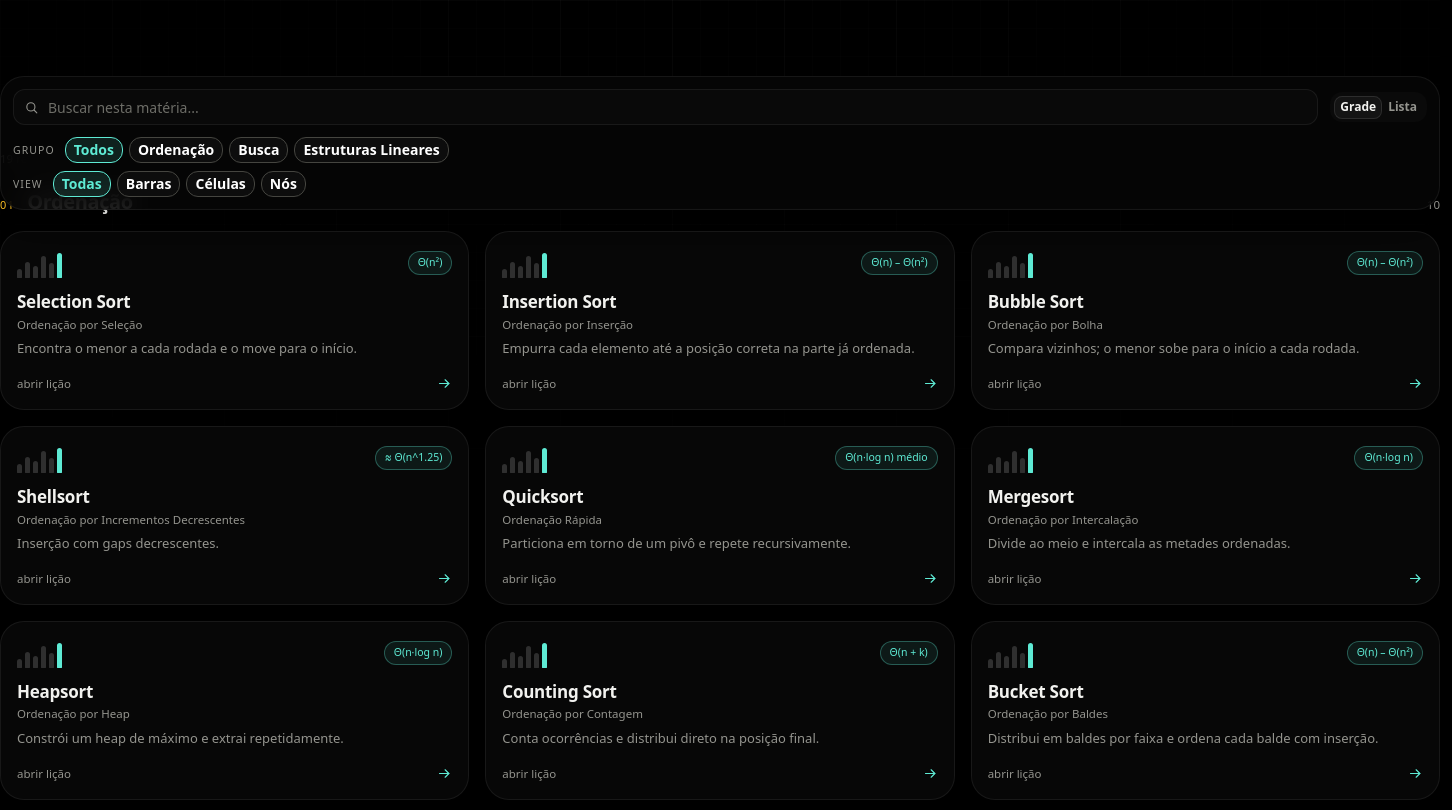
Scenario: AlgorithmBrowser › shows an empty state and clears the filters
In the field with placeholder "Buscar nesta matéria...": x=666, y=107 13,89 -> 1318,125, type "xyz-inexistente"
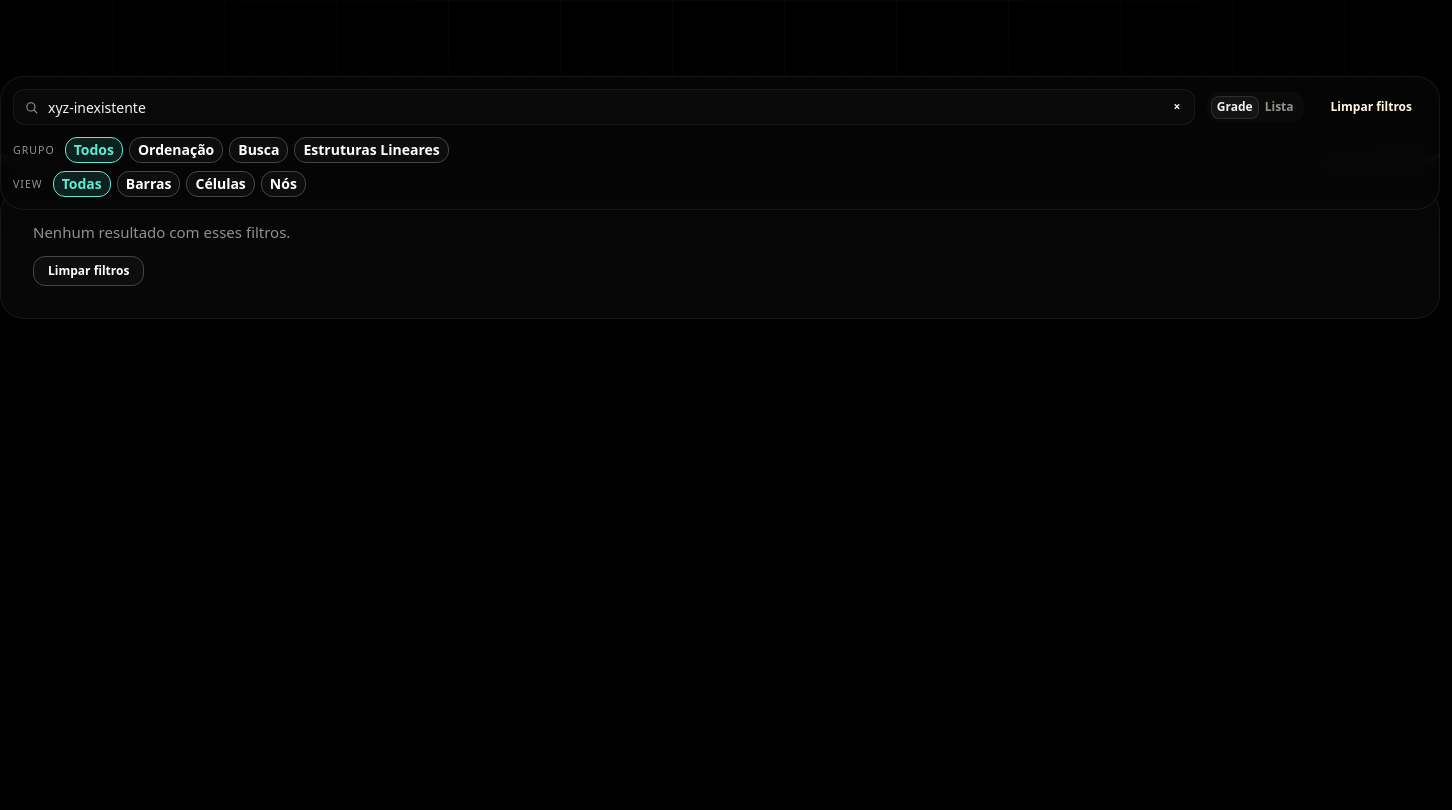
Check: the text "Nenhum resultado com esses filtros." is shown, box 33,222 -> 290,242
Click the button "Limpar filtros" next to "Lista": x=1371, y=107 1316,92 -> 1427,122
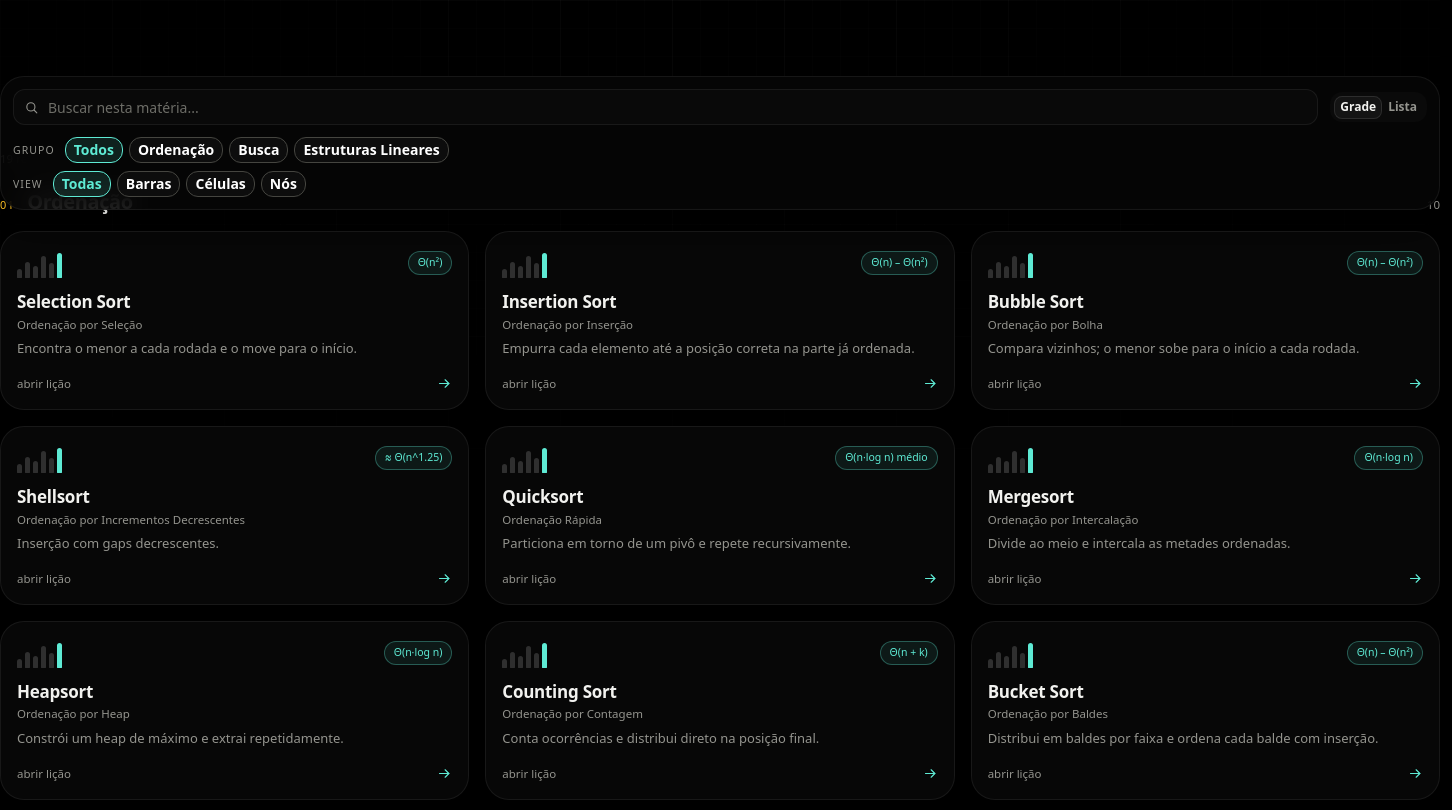
Check: the heading "Quicksort" is shown, box 502,485 -> 583,508
